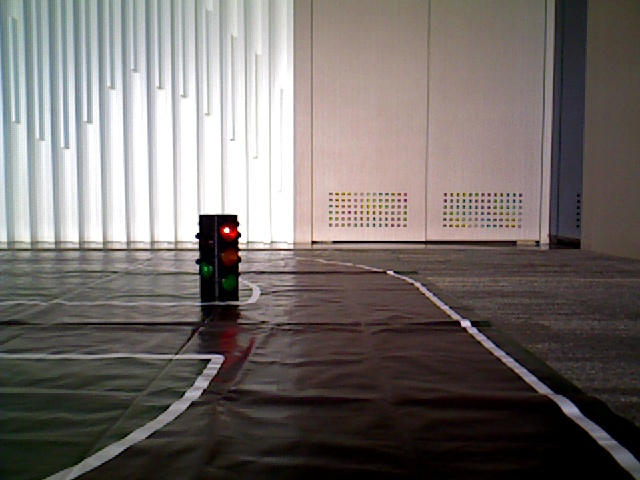red: (209, 217, 239, 295)
